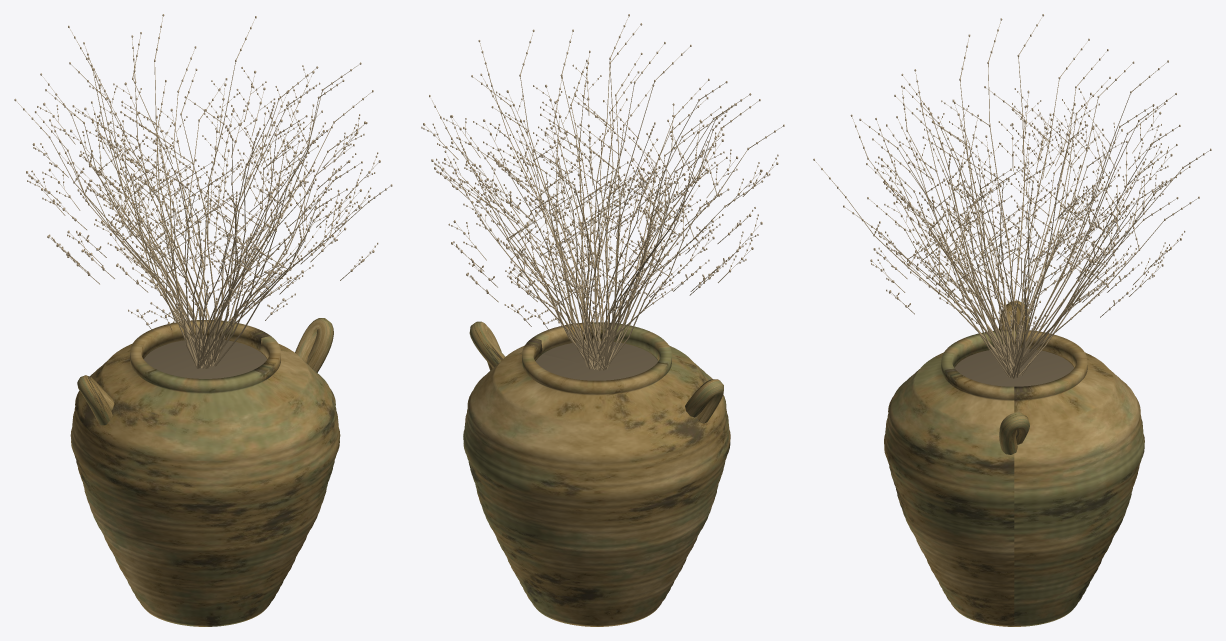
The picture shows the model from 3 angles, left to right: view 1: azimuth 30°, elevation 25°; view 2: azimuth 150°, elevation 25°; view 3: azimuth 270°, elevation 25°; orthographic projection. The views are drawn at different scales.
Parts seen in each view (by area): view 1: mottled olive ochre antique ceramic, dry tan seed twigs, dry ochre seed capsules, dry plant bed; view 2: mottled olive ochre antique ceramic, dry tan seed twigs, dry ochre seed capsules, dry plant bed; view 3: mottled olive ochre antique ceramic, dry tan seed twigs, dry ochre seed capsules, dry plant bed.
Boxes of the visible parts, <box> form: mottled olive ochre antique ceramic: <box>70,318,340,626</box>; dry tan seed twigs: <box>16,16,390,368</box>; dry ochre seed capsules: <box>14,14,392,325</box>; dry plant bed: <box>144,339,266,378</box>; mottled olive ochre antique ceramic: <box>463,321,730,626</box>; dry tan seed twigs: <box>425,16,782,370</box>; dry ochre seed capsules: <box>421,14,784,334</box>; dry plant bed: <box>535,341,657,380</box>; mottled olive ochre antique ceramic: <box>884,301,1144,626</box>; dry tan seed twigs: <box>815,18,1209,378</box>; dry ochre seed capsules: <box>813,14,1211,340</box>; dry plant bed: <box>954,348,1073,386</box>.
Bounding box in the file's own units: 0.7996 × 1.28 × 0.8867.
4 materials, 1 textured.
